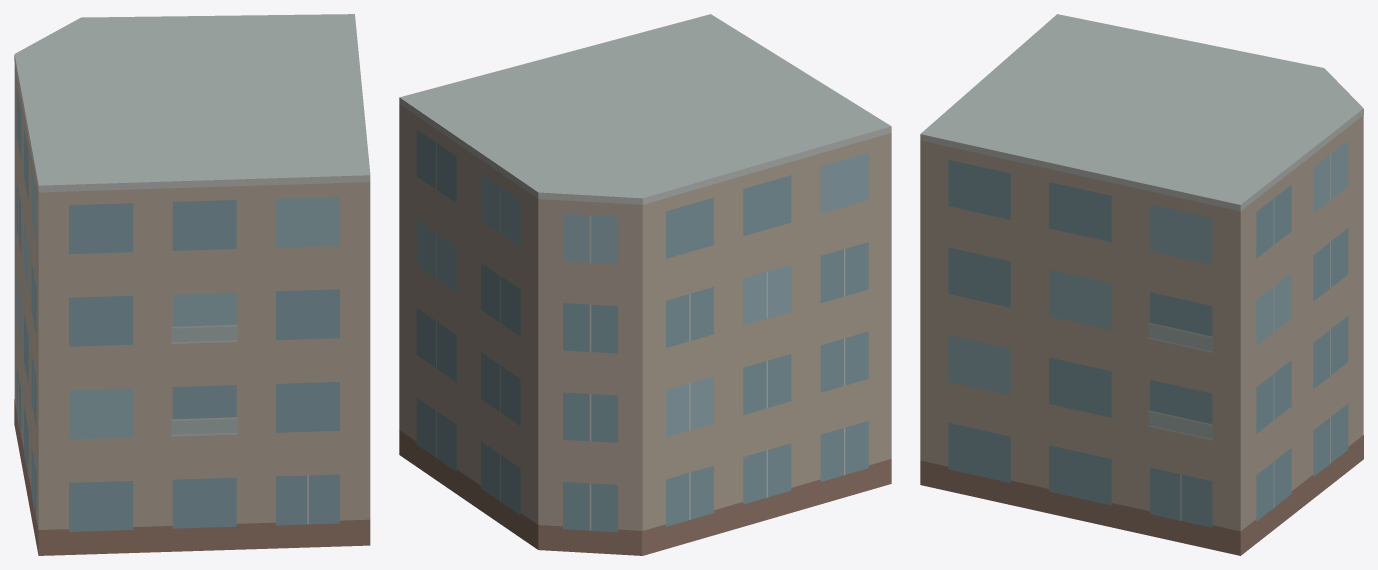
The model's file is survey-upis-32694925.glb.
3 renders of one model, left to right at view 1: azimuth 30°, elevation 25°; view 2: azimuth 150°, elevation 25°; view 3: azimuth 270°, elevation 25°, orthographic. The views are drawn at different scales.
Visible parts, largest first — view 1: survey-upis-32694925.tmp; view 2: survey-upis-32694925.tmp; view 3: survey-upis-32694925.tmp.
Boxes of the visible parts, x1,y1,x2,y2 form: survey-upis-32694925.tmp: (14, 14, 370, 555); survey-upis-32694925.tmp: (399, 14, 891, 555); survey-upis-32694925.tmp: (920, 14, 1363, 555).
Bounding box in the file's own units: 15.6 × 13.35 × 15.3.
